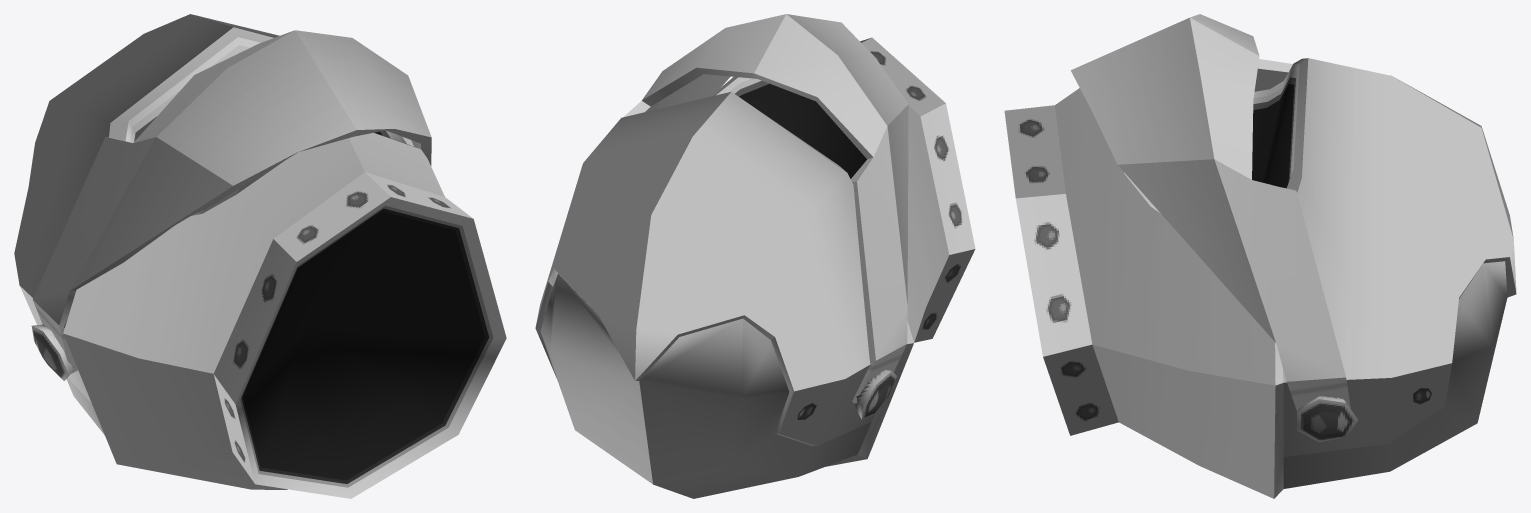
File: ArmetHelmet_F.glb
3 views of the same model, side by side, from view 1: azimuth 30°, elevation 25°; view 2: azimuth 150°, elevation 25°; view 3: azimuth 270°, elevation 25° (orthographic). The views are drawn at different scales.
Visible parts, largest first — view 1: ArmetHelmet_F, ArmetHelmet_F_Visor; view 2: ArmetHelmet_F, ArmetHelmet_F_Visor; view 3: ArmetHelmet_F, ArmetHelmet_F_Visor.
Part boxes in pixels (bbox=[...]): ArmetHelmet_F: bbox=[14, 14, 506, 498]; ArmetHelmet_F_Visor: bbox=[31, 30, 431, 380]; ArmetHelmet_F: bbox=[535, 37, 975, 498]; ArmetHelmet_F_Visor: bbox=[623, 14, 908, 419]; ArmetHelmet_F: bbox=[1004, 58, 1516, 498]; ArmetHelmet_F_Visor: bbox=[1071, 14, 1357, 442].
Bounding box in the file's own units: 0.2744 × 0.3436 × 0.3366.
Materials: 1 (1 with a texture image).
